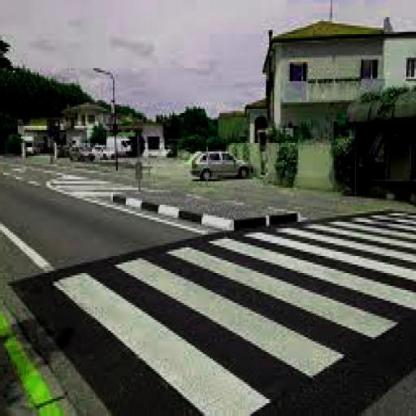crosswalk: (64, 241, 402, 383)
